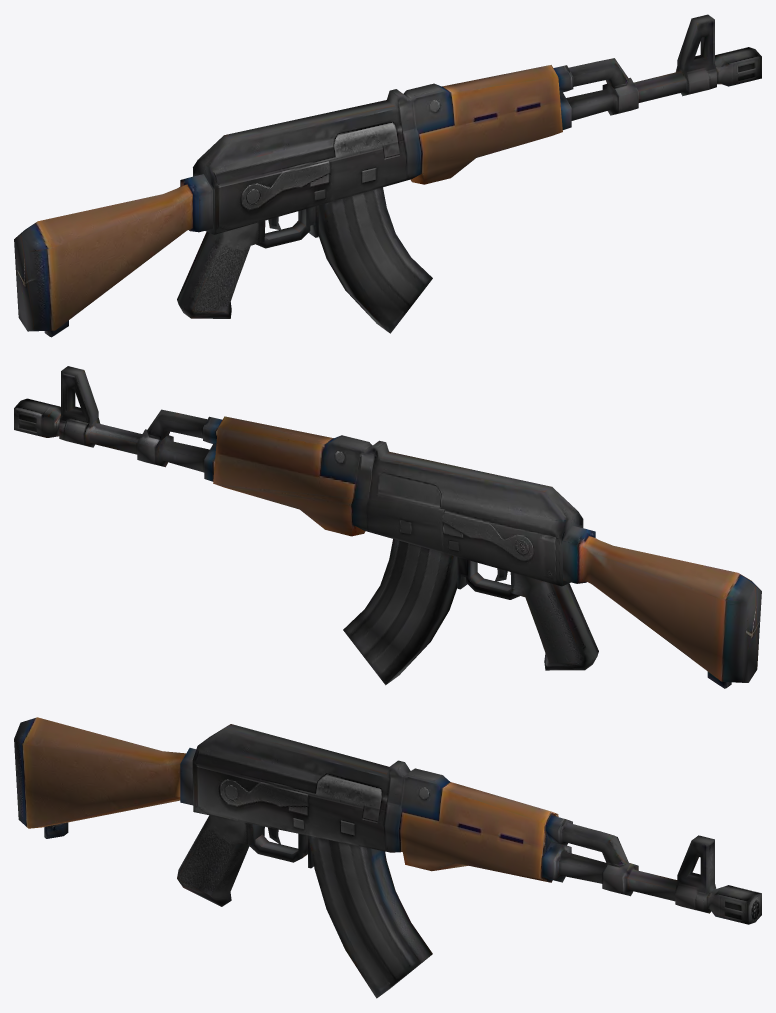
3 renders of one model, top to bottom at view 1: azimuth 30°, elevation 25°; view 2: azimuth 150°, elevation 25°; view 3: azimuth 330°, elevation 25°, orthographic.
Parts seen in each view (by area): view 1: tripo_node_b2049c59-c49c-49f1-acd4-b3d843c45109; view 2: tripo_node_b2049c59-c49c-49f1-acd4-b3d843c45109; view 3: tripo_node_b2049c59-c49c-49f1-acd4-b3d843c45109.
Boxes of the visible parts, left/top/right/bottom form: tripo_node_b2049c59-c49c-49f1-acd4-b3d843c45109: left=14, top=14, right=761, bottom=337; tripo_node_b2049c59-c49c-49f1-acd4-b3d843c45109: left=14, top=366, right=761, bottom=688; tripo_node_b2049c59-c49c-49f1-acd4-b3d843c45109: left=14, top=717, right=761, bottom=998.
Size of the model in its own units: 1.65 by 0.4989 by 0.1008.
1 material, 1 textured.
